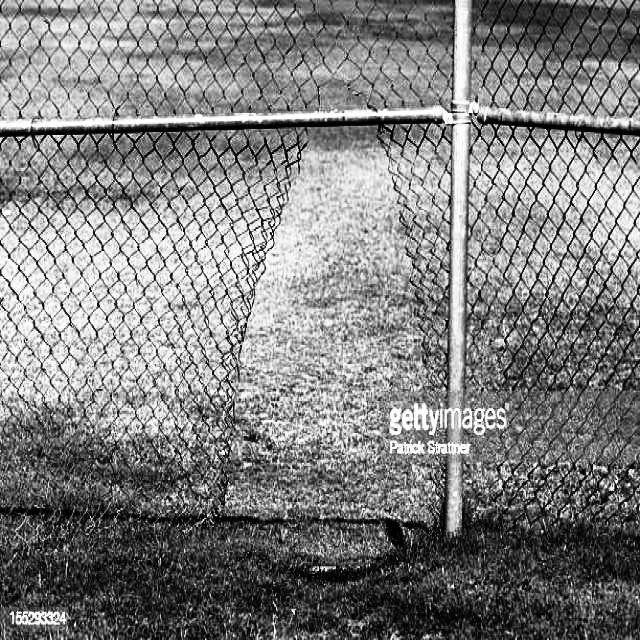anomaly-fence: (217, 64, 480, 544)
fences: (0, 7, 194, 529)
